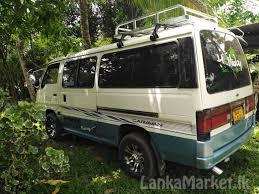Van: (32, 15, 259, 173)
